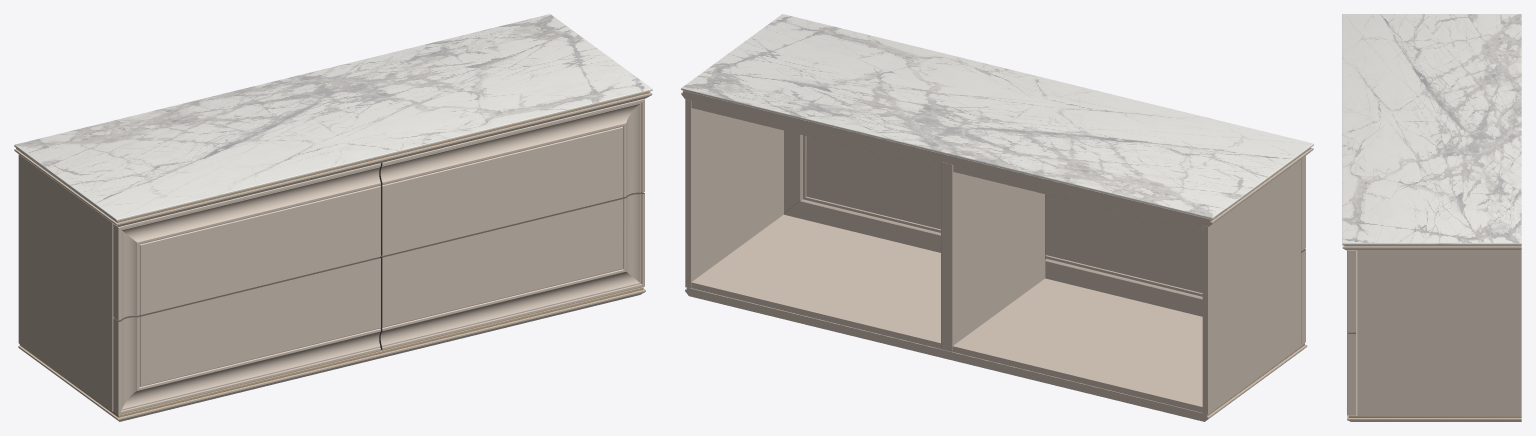
3 views of the same model, side by side, from view 1: azimuth 30°, elevation 25°; view 2: azimuth 150°, elevation 25°; view 3: azimuth 270°, elevation 25° (orthographic). The views are drawn at different scales.
Visible parts, largest first — view 1: BL01.012, BL05.001; view 2: BL05.001, BL01.012; view 3: BL05.001, BL01.012.
Boxes of the visible parts, x1,y1,x2,y2 form: BL01.012: [113, 98, 644, 414]; BL05.001: [14, 14, 652, 421]; BL05.001: [681, 14, 1313, 421]; BL01.012: [784, 130, 1305, 345]; BL05.001: [1342, 14, 1521, 421]; BL01.012: [1347, 250, 1356, 415].
Size of the model in its own units: 1.5 by 0.556 by 0.4963.
Materials: 4 (1 with a texture image).
